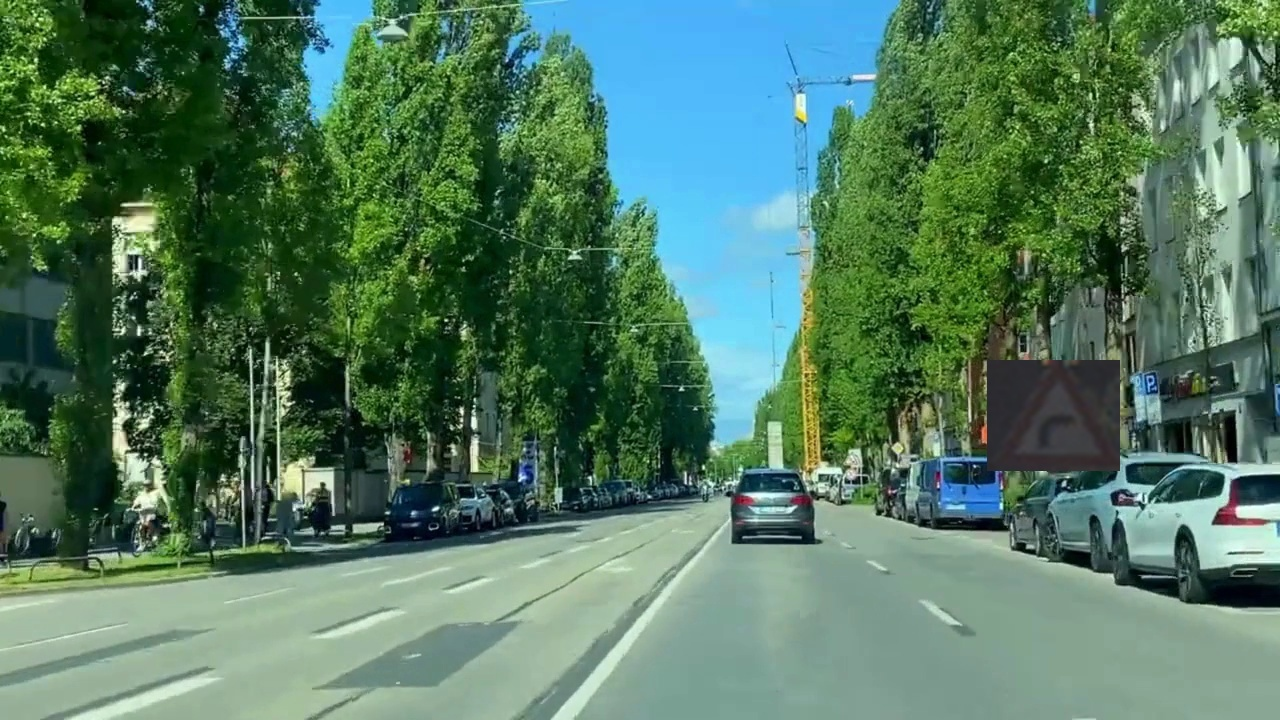Curve right: (987, 360, 1120, 471)
